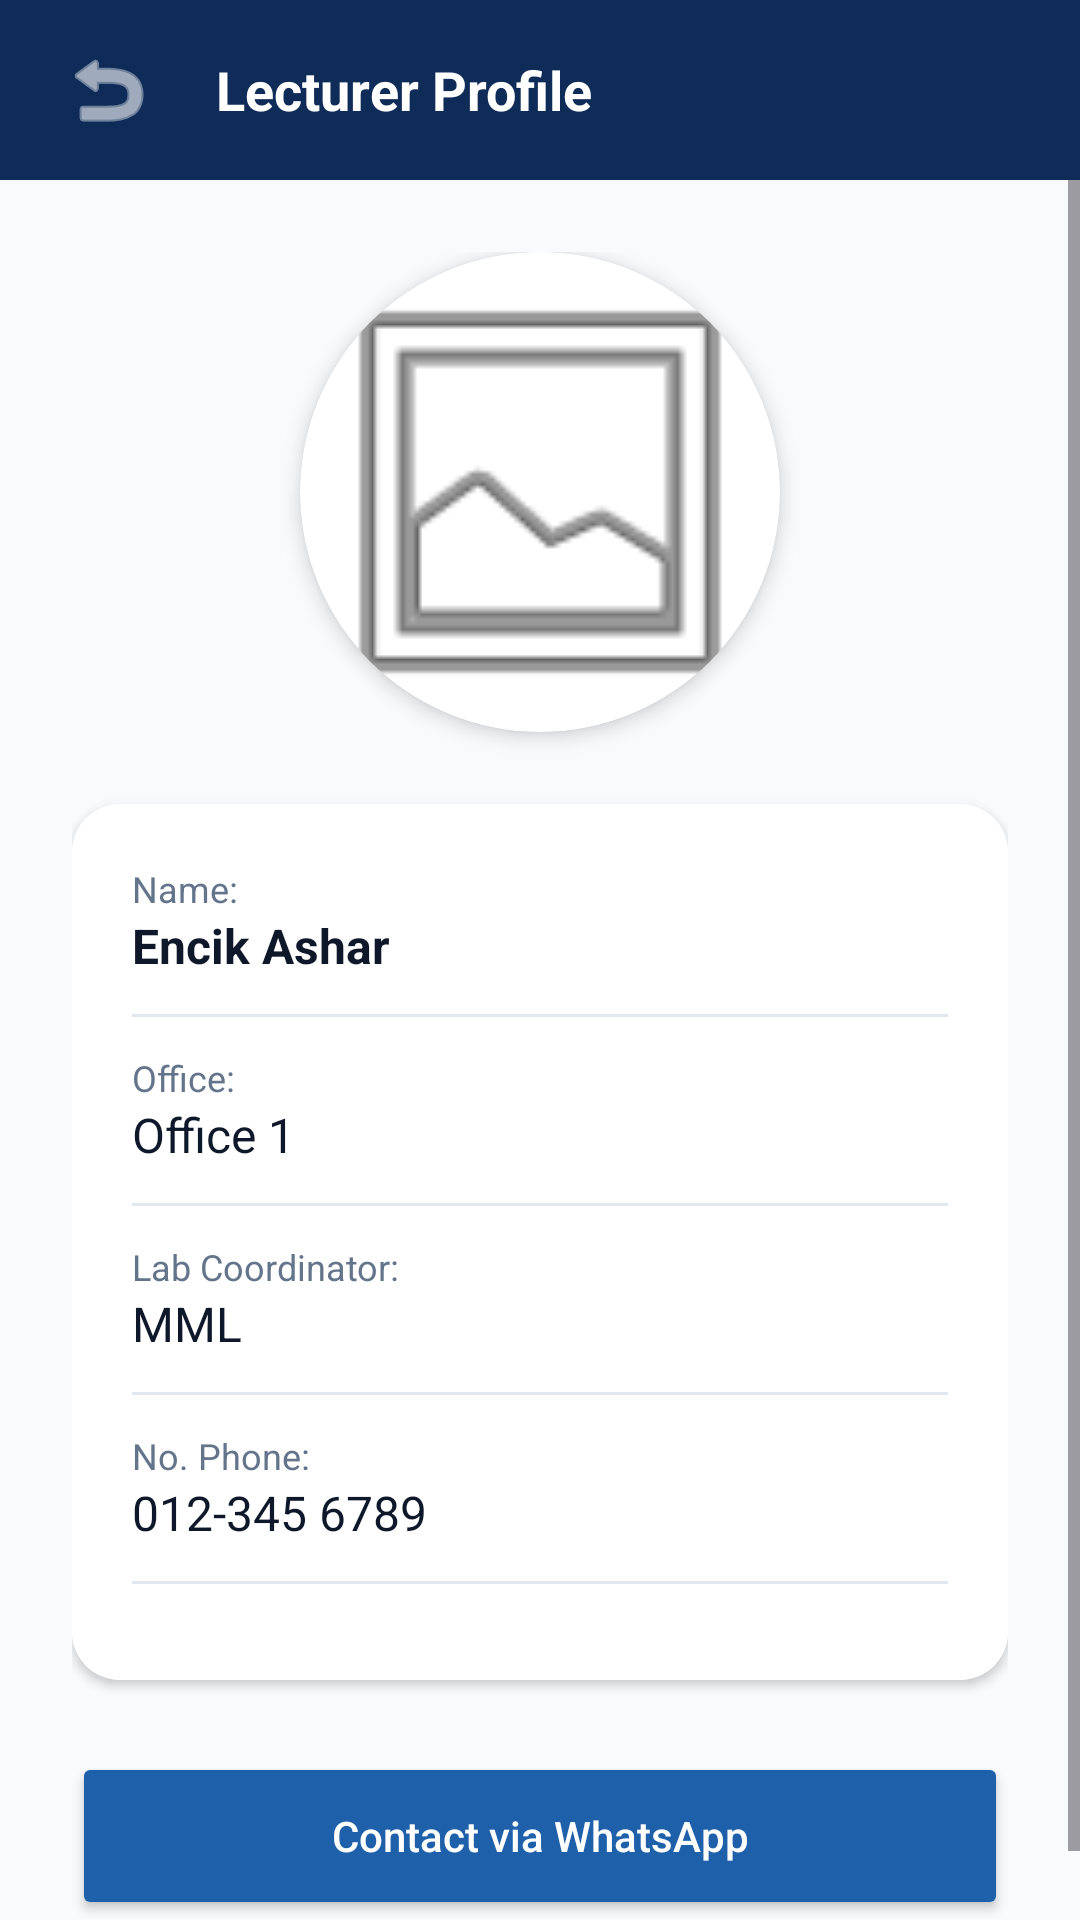

Screen size 1080x1920. Icon name, then its center in pixels as point (x, y):
Back: point (109, 90)
